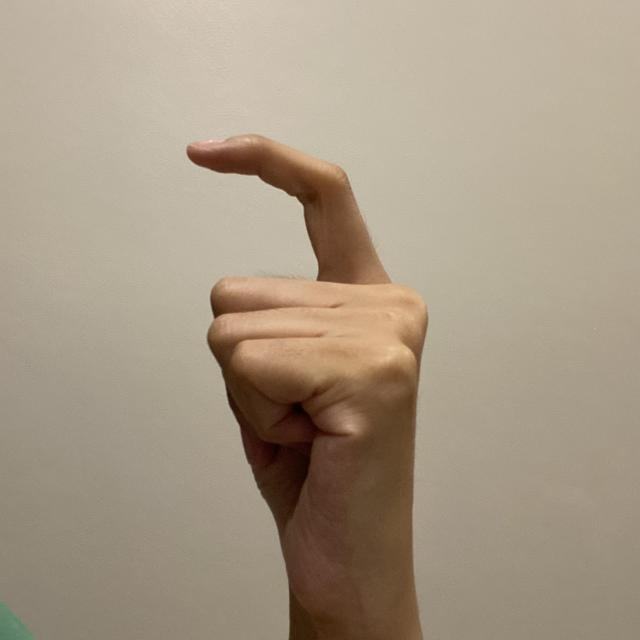X: (180, 129, 431, 617)
